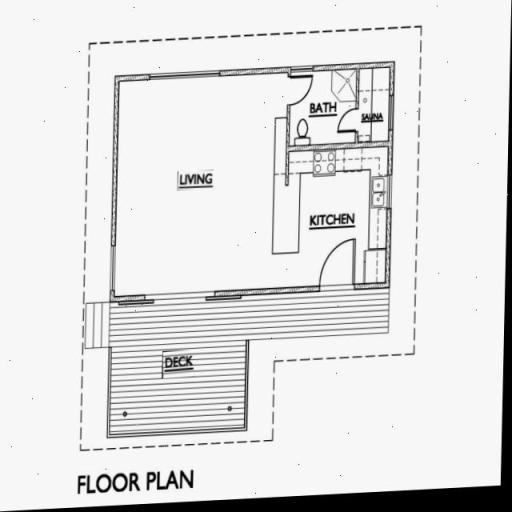bathroom: (303, 74, 386, 146)
hall: (122, 79, 302, 280)
kitchen: (308, 150, 390, 291)
